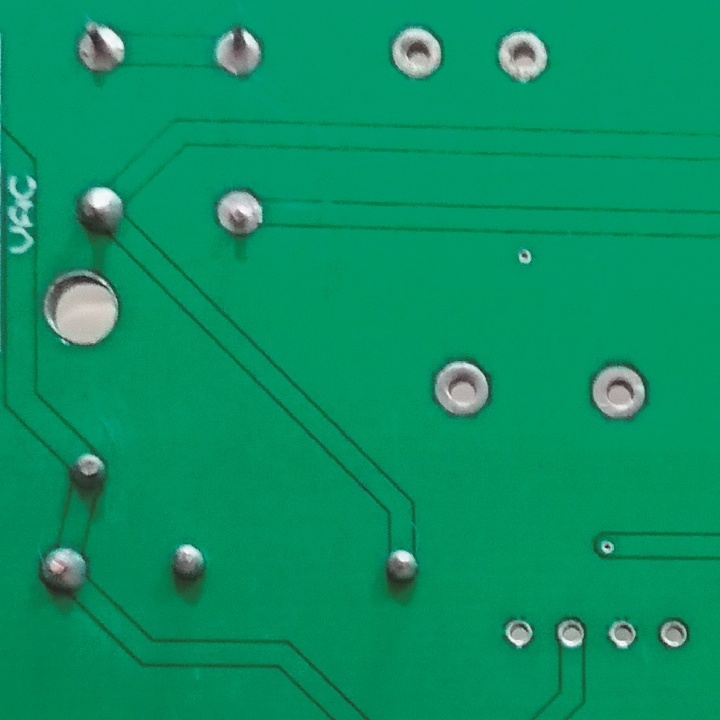F: (431, 353, 493, 428), (491, 25, 555, 88), (587, 360, 651, 422), (387, 24, 447, 83), (72, 18, 131, 77), (207, 19, 263, 80), (214, 187, 267, 237), (655, 614, 691, 655), (604, 615, 642, 652), (499, 613, 535, 652), (553, 616, 593, 650)
